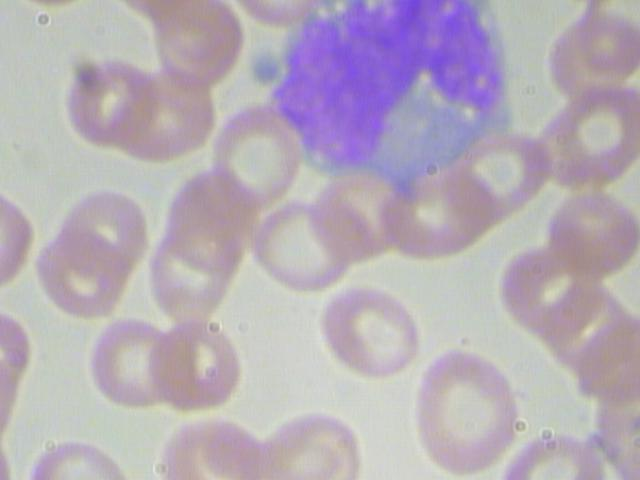RBC: (410, 345, 523, 475), (140, 317, 255, 417), (310, 279, 424, 379), (74, 314, 188, 414), (158, 169, 264, 272), (32, 222, 135, 325), (258, 197, 354, 296), (544, 179, 639, 278), (62, 57, 163, 149), (544, 1, 639, 98), (52, 179, 152, 271), (114, 70, 214, 162)
WBC: (279, 1, 517, 196)
